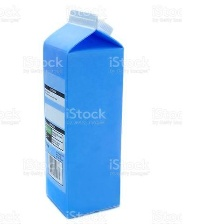carton: (39, 6, 126, 220)
